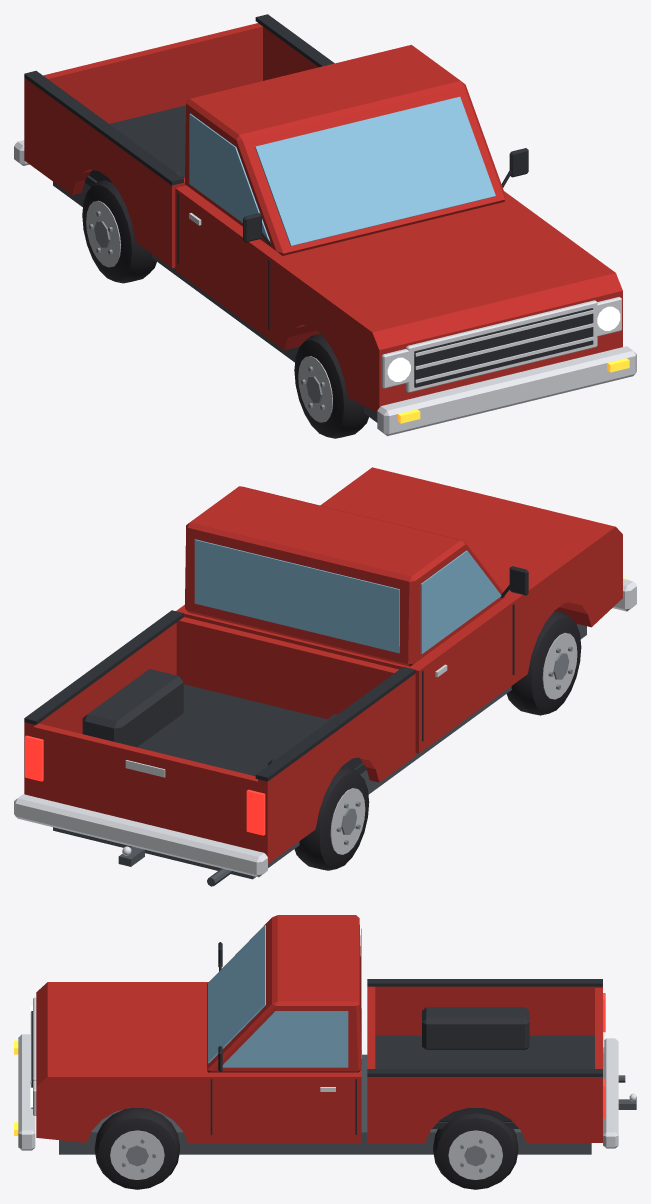
The model's file is veh_pickup.glb.
The picture shows the model from 3 angles, top to bottom: view 1: azimuth 30°, elevation 25°; view 2: azimuth 150°, elevation 25°; view 3: azimuth 270°, elevation 25°; orthographic projection. The views are drawn at different scales.
Visible parts, largest first — view 1: Body, Wheel_1R, Wheel_2R; view 2: Body, Wheel_1R, Wheel_2R; view 3: Body, Wheel_1L, Wheel_2L.
Boxes of the visible parts, x1,y1,x2,y2 form: Body: (14, 14, 636, 436); Wheel_1R: (294, 333, 368, 438); Wheel_2R: (82, 180, 156, 283); Body: (14, 467, 636, 886); Wheel_1R: (506, 610, 581, 715); Wheel_2R: (294, 767, 369, 870); Body: (14, 915, 636, 1154); Wheel_1L: (94, 1108, 179, 1189); Wheel_2L: (433, 1113, 518, 1189).
Size of the model in its own units: 2.34 by 1.85 by 5.55.
